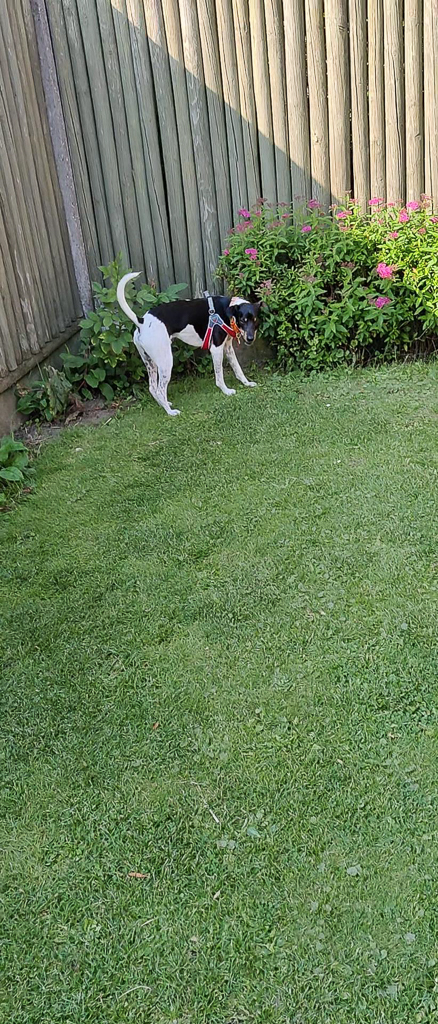Dog: (114, 264, 273, 425)
